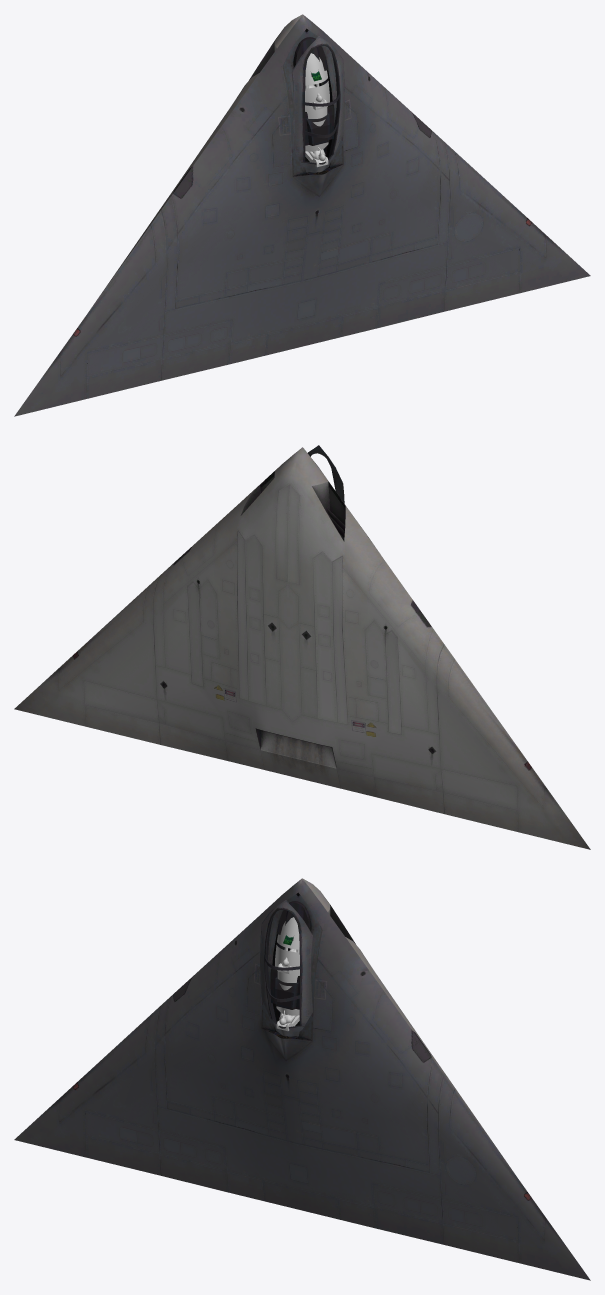
Rendered from A-12_Avenger_II.obj.
3 renders of one model, top to bottom at view 1: azimuth 30°, elevation 25°; view 2: azimuth 150°, elevation 25°; view 3: azimuth 330°, elevation 25°, orthographic.
Visible parts, largest first — view 1: LOD0, BrakeL01, BrakeR01, AileronL01, AileronR01, Canopy01, ElevatorL01, Glass_Canopy01; view 2: LOD0, x_BombBayL01, x_BombBayR01, AileronL01, AileronR01, ElevatorL01; view 3: LOD0, BrakeR01, BrakeL01, AileronR01, AileronL01, Canopy01, ElevatorL01, Glass_Canopy01.
Boxes of the visible parts, bbox=[...] form: LOD0: bbox=[14, 14, 590, 416]; BrakeL01: bbox=[87, 319, 231, 376]; BrakeR01: bbox=[378, 247, 519, 306]; AileronL01: bbox=[86, 343, 230, 398]; AileronR01: bbox=[377, 271, 519, 328]; Canopy01: bbox=[291, 36, 344, 172]; ElevatorL01: bbox=[265, 316, 342, 355]; Glass_Canopy01: bbox=[305, 53, 329, 151]; LOD0: bbox=[14, 447, 590, 849]; x_BombBayL01: bbox=[312, 552, 347, 724]; x_BombBayR01: bbox=[237, 530, 266, 705]; AileronL01: bbox=[373, 777, 518, 832]; AileronR01: bbox=[85, 705, 228, 761]; ElevatorL01: bbox=[261, 750, 340, 788]; LOD0: bbox=[14, 878, 590, 1280]; BrakeR01: bbox=[373, 1183, 517, 1240]; BrakeL01: bbox=[85, 1111, 226, 1170]; AileronR01: bbox=[374, 1207, 518, 1262]; AileronL01: bbox=[85, 1135, 227, 1192]; Canopy01: bbox=[260, 900, 313, 1036]; ElevatorL01: bbox=[262, 1180, 339, 1219]; Glass_Canopy01: bbox=[275, 917, 299, 1015].
Size of the model in its own units: 21.22 by 11.68 by 2.68.
